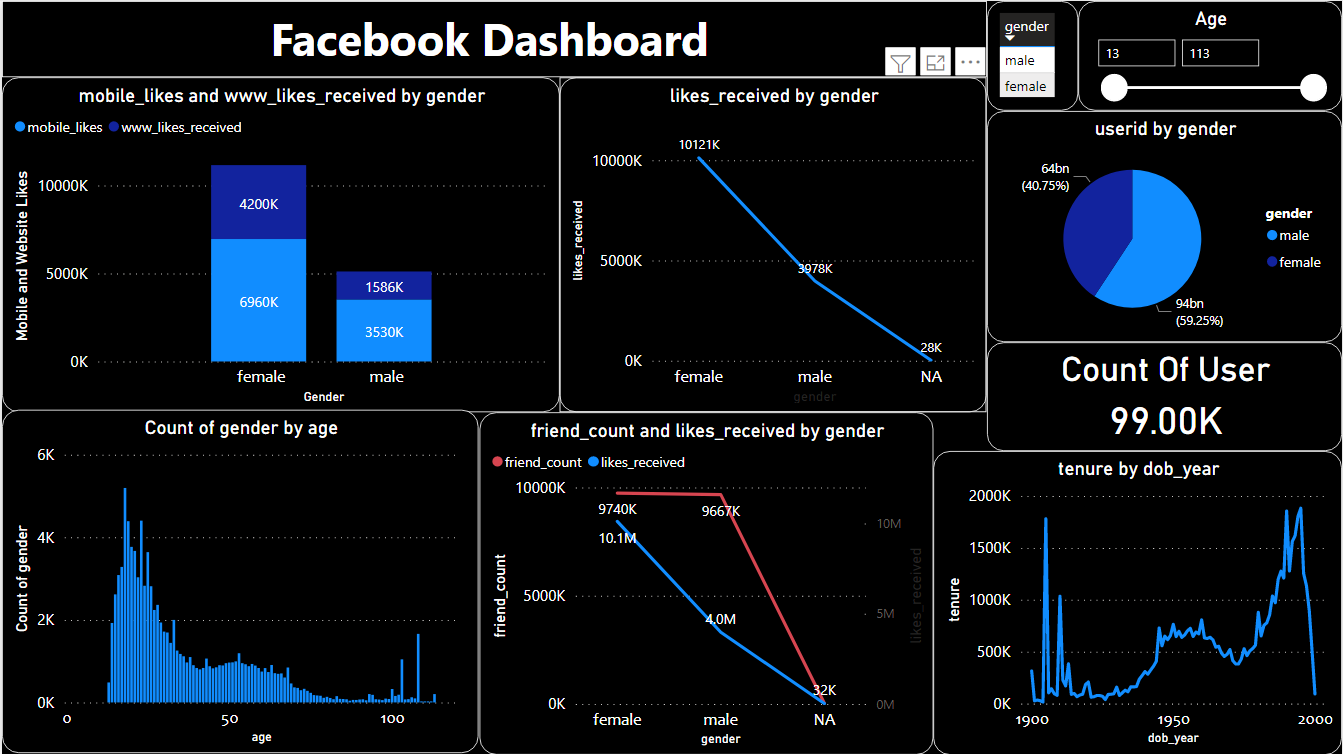

This screenshot's page, from the dashboard's own definition file:
{"tool":"powerbi","page":{"name":"Page 1","canvas":[1280,720],"ordinal":0},"visuals":[{"type":"textbox","box":[0,0,940.9,72.8],"z":0},{"type":"lineChart","fields":{"Y":["Sum(pseudo_facebook.likes_received)"],"Category":["pseudo_facebook.gender"]},"box":[532.5,72.8,408.4,320],"z":1000},{"type":"pieChart","fields":{"Category":["pseudo_facebook.gender"],"Y":["Sum(pseudo_facebook.userid)"]},"box":[940.9,105.1,339.1,220.9],"z":2000},{"type":"slicer","title":"Age","fields":{"Values":["pseudo_facebook.age"]},"box":[1028.1,0,251.9,105.1],"z":3000},{"type":"tableEx","fields":{"Values":["pseudo_facebook.gender"]},"box":[940.9,0,87.2,105.1],"z":4000},{"type":"columnChart","fields":{"Y":["Sum(pseudo_facebook.mobile_likes)","Sum(pseudo_facebook.www_likes_received)"],"Category":["pseudo_facebook.gender"]},"box":[0,72.8,532.5,320],"z":5000},{"type":"lineStackedColumnComboChart","fields":{"Category":["pseudo_facebook.age"],"Y":["CountNonNull(pseudo_facebook.gender)"]},"box":[0,391,455.5,327.9],"z":6000},{"type":"lineChart","fields":{"Category":["pseudo_facebook.gender"],"Y":["Sum(pseudo_facebook.friend_count)"],"Y2":["Sum(pseudo_facebook.likes_received)"]},"box":[456.1,392.8,433.4,327.2],"z":7000},{"type":"card","title":"Count Of User","fields":{"Values":["CountNonNull(pseudo_facebook.userid)"]},"box":[940.9,326,339.1,103.9],"z":8000},{"type":"lineChart","fields":{"Category":["pseudo_facebook.dob_year"],"Y":["Sum(pseudo_facebook.tenure)"]},"box":[889.6,429.9,390.4,290.1],"z":9000}]}

Visuals, with their boxes in screenshot pixels (x1, y1, x2, y2), scaled from the page's 1280x720 canvas onto the 1343x754 screenshot:
textbox: 0/0/987/76
lineChart - Sum(pseudo_facebook.likes_received) x pseudo_facebook.gender: 559/76/987/411
pieChart - pseudo_facebook.gender x Sum(pseudo_facebook.userid): 987/110/1342/341
"Age" slicer: 1079/0/1342/110
tableEx - pseudo_facebook.gender: 987/0/1079/110
columnChart - Sum(pseudo_facebook.mobile_likes) x Sum(pseudo_facebook.www_likes_received): 0/76/559/411
lineStackedColumnComboChart - pseudo_facebook.age x CountNonNull(pseudo_facebook.gender): 0/409/478/753
lineChart - pseudo_facebook.gender x Sum(pseudo_facebook.friend_count): 479/411/933/753
"Count Of User" card: 987/341/1342/450
lineChart - pseudo_facebook.dob_year x Sum(pseudo_facebook.tenure): 933/450/1342/753
